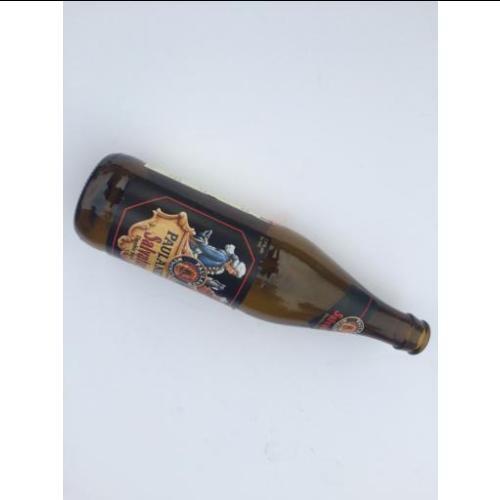glass: (80, 152, 425, 356)
